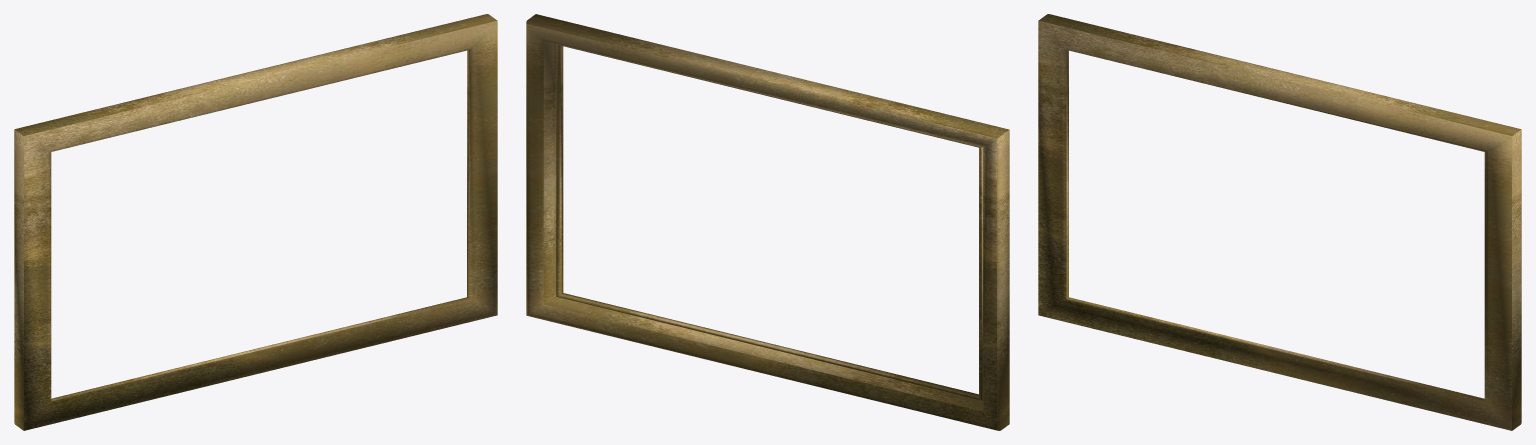
Rendered from frame6.glb.
3 views of the same model, side by side, from view 1: azimuth 30°, elevation 25°; view 2: azimuth 150°, elevation 25°; view 3: azimuth 330°, elevation 25° (orthographic).
Parts seen in each view (by area): view 1: Frame6; view 2: Frame6; view 3: Frame6.
Part boxes in pixels (x1,y1,x2,y2): Frame6: (14, 14, 497, 430); Frame6: (526, 14, 1009, 430); Frame6: (1038, 14, 1521, 430).
Bounding box in the file's own units: 4.19 × 2.49 × 0.1776.
1 material, 1 textured.
